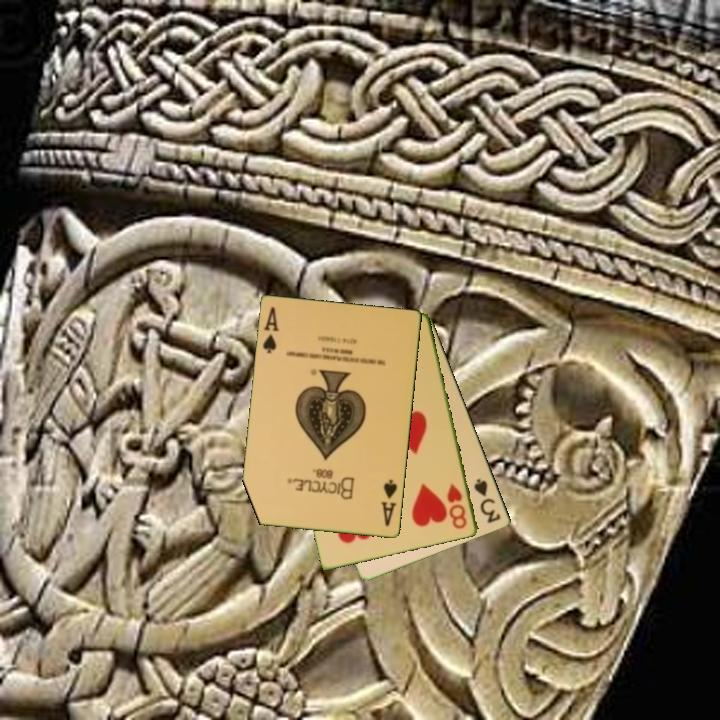3s: (471, 475, 504, 526)
8h: (444, 480, 470, 532)
As: (378, 476, 401, 530), (260, 303, 282, 356)
